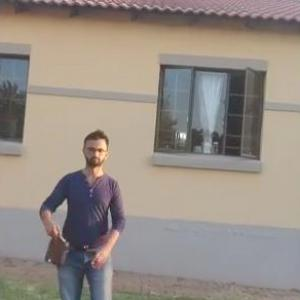follow: (33, 120, 131, 299)
